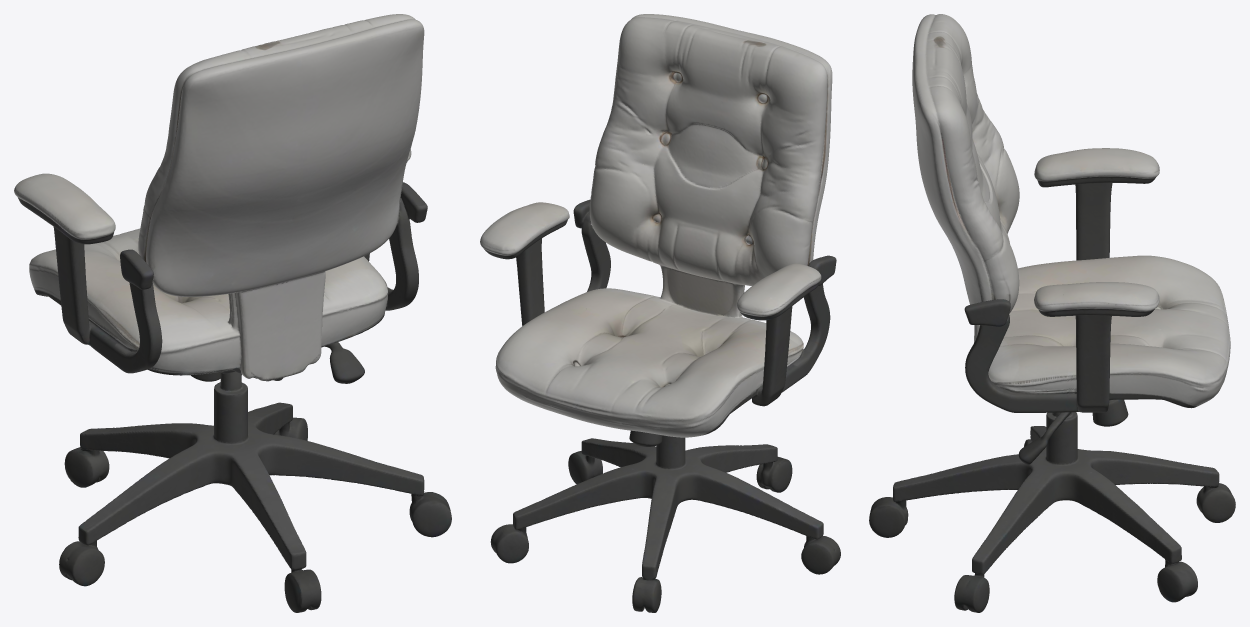
Rendered from modern_office_chair_padded_07.glb.
The picture shows the model from 3 angles, left to right: view 1: azimuth 30°, elevation 25°; view 2: azimuth 150°, elevation 25°; view 3: azimuth 270°, elevation 25°; orthographic projection. The views are drawn at different scales.
Visible parts, largest first — view 1: tripo_node_906d2c33-0d32-4180-8548-53cbea5951f0; view 2: tripo_node_906d2c33-0d32-4180-8548-53cbea5951f0; view 3: tripo_node_906d2c33-0d32-4180-8548-53cbea5951f0.
Boxes of the visible parts, x1,y1,x2,y2 form: tripo_node_906d2c33-0d32-4180-8548-53cbea5951f0: (14, 14, 451, 612); tripo_node_906d2c33-0d32-4180-8548-53cbea5951f0: (480, 14, 840, 612); tripo_node_906d2c33-0d32-4180-8548-53cbea5951f0: (869, 14, 1235, 612).
Size of the model in its own units: 0.6902 by 1 by 0.679.
1 material, 1 textured.
